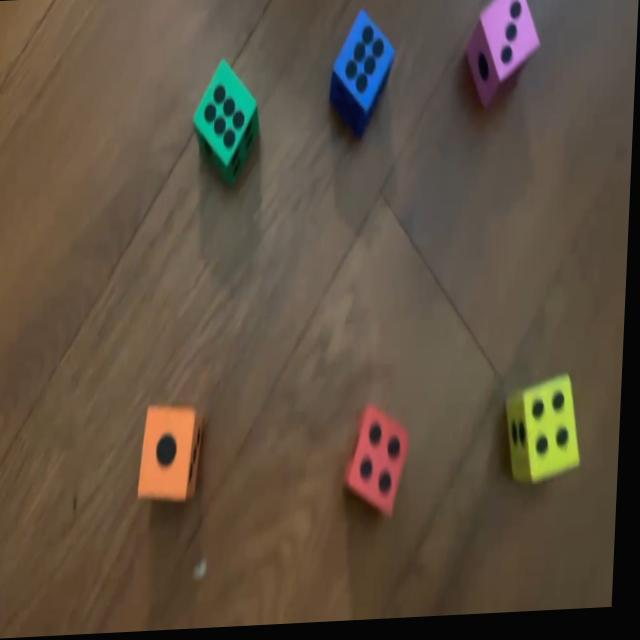blue_block: (330, 11, 395, 138)
red_block: (346, 406, 415, 521)
